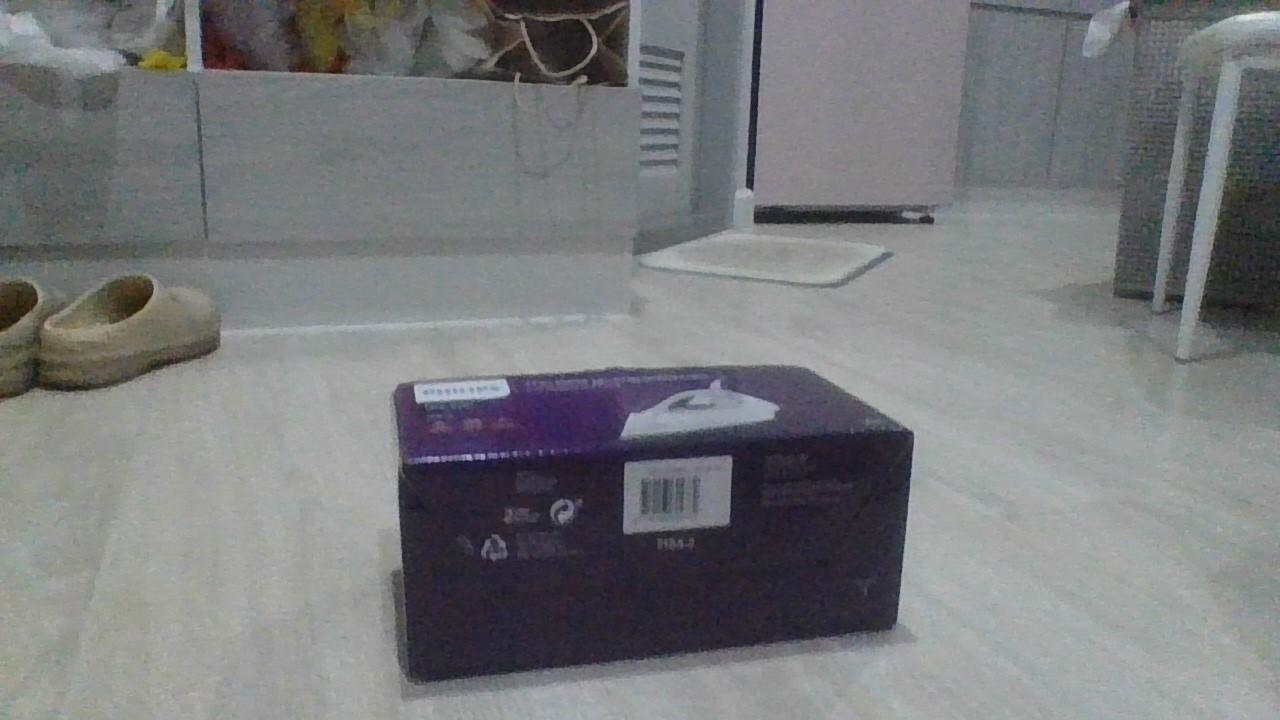IRON: (386, 359, 918, 686)
